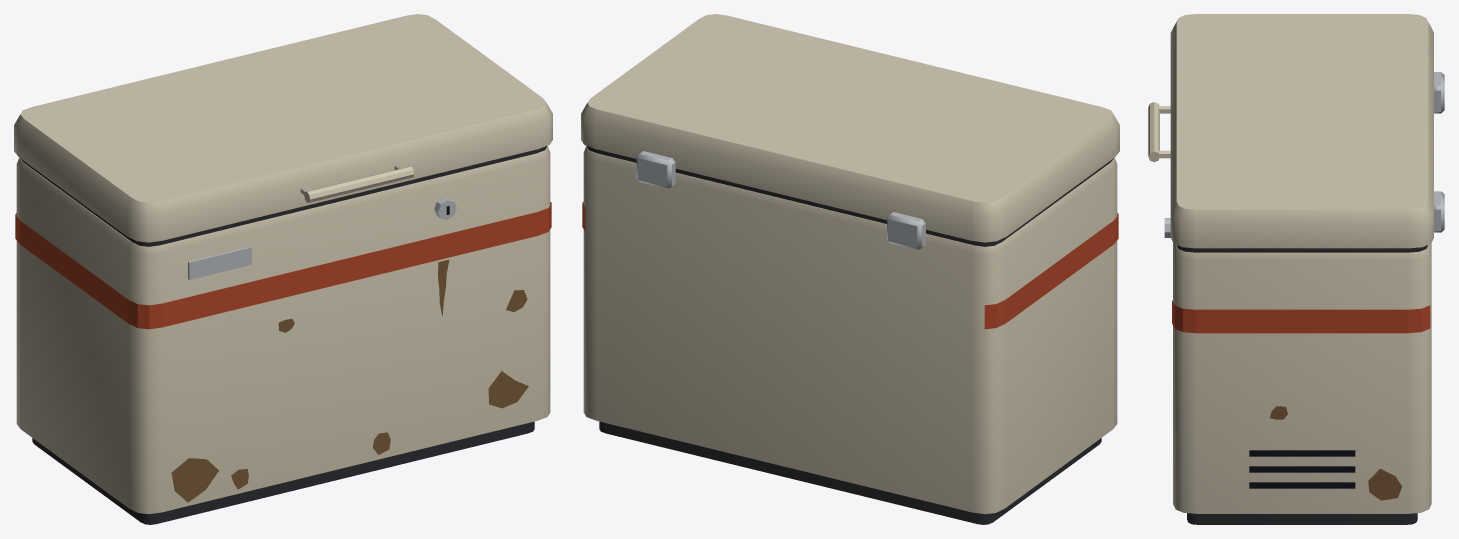
File: Basement_ChestFreezer.fbx
3 renders of one model, left to right at view 1: azimuth 30°, elevation 25°; view 2: azimuth 150°, elevation 25°; view 3: azimuth 270°, elevation 25°, orthographic. The views are drawn at different scales.
Visible parts, largest first — view 1: Body, Lid, Stripe, Plinth, Rust, Gasket, Chrome; view 2: Body, Lid, Plinth, Stripe, Chrome, Gasket; view 3: Lid, Body, Stripe, Plinth, Dark, Gasket, Chrome, Rust.
Boxes of the visible parts, x1,y1,x2,y2 form: Body: [16, 146, 550, 514]; Lid: [14, 14, 552, 242]; Stripe: [15, 202, 551, 329]; Plinth: [32, 421, 534, 524]; Rust: [171, 259, 528, 502]; Gasket: [20, 146, 547, 246]; Chrome: [188, 197, 456, 279]; Body: [583, 146, 1117, 514]; Lid: [581, 14, 1119, 242]; Plinth: [599, 421, 1101, 524]; Stripe: [582, 202, 1118, 329]; Chrome: [636, 151, 925, 249]; Gasket: [586, 146, 1113, 246]; Lid: [1148, 14, 1433, 248]; Body: [1173, 243, 1431, 513]; Stripe: [1172, 300, 1430, 333]; Plinth: [1187, 513, 1417, 524]; Dark: [1249, 450, 1355, 488]; Gasket: [1176, 245, 1427, 252]; Chrome: [1164, 72, 1444, 237]; Rust: [1270, 406, 1401, 500].
Size of the model in its own units: 404 by 300 by 252.
